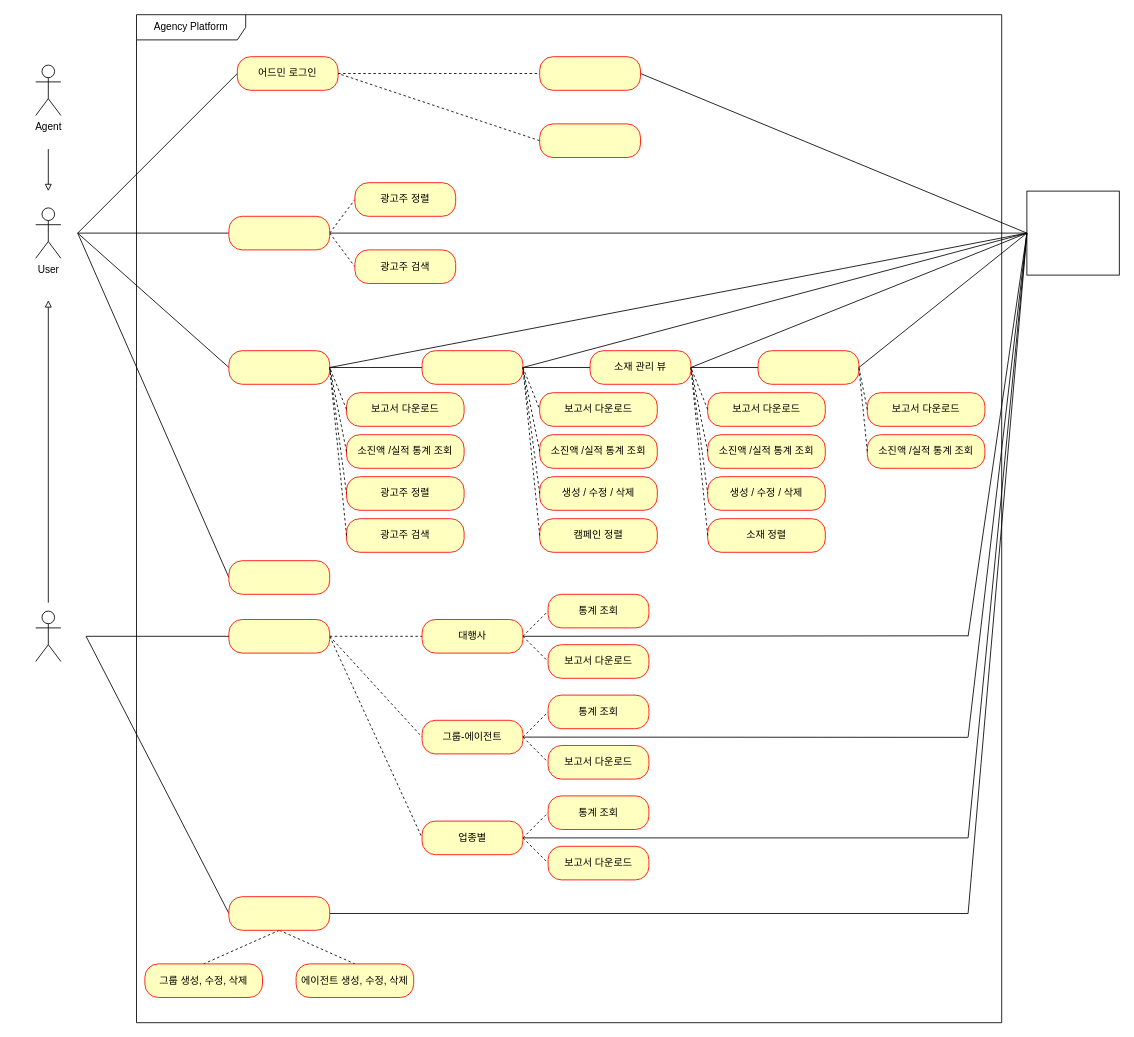
Image size: 1134x1037. Some labels were removed from this diagram. The shapes that lost their labels are listed below. From the top down, each one's box as (x1, y1, x2, y2) in pixels, then its label:
(539, 56, 640, 90): 인증
(539, 123, 640, 158): 로그인 실패
(228, 215, 330, 250): 광고주 관리 뷰
(1026, 190, 1119, 275): DB
(228, 350, 330, 384): 광고 관리 뷰
(421, 350, 523, 384): 캠페인 관리 뷰
(757, 350, 859, 384): 소재 실적 관리 뷰
(228, 560, 330, 594): 고객센터
(35, 610, 61, 662): Agency Master
(228, 619, 330, 653): 대시보드
(228, 896, 330, 930): 에이전트 및 그룹 관리
